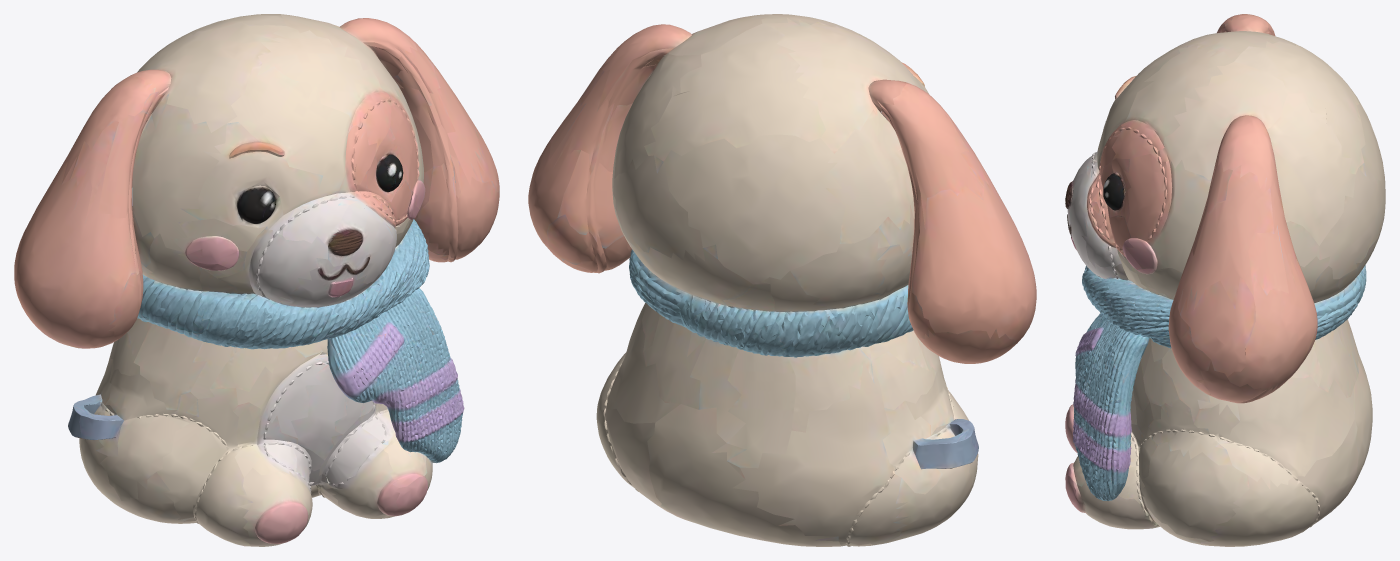
The model's file is scarfpuppy.gen.glb.
The picture shows the model from 3 angles, left to right: view 1: azimuth 30°, elevation 25°; view 2: azimuth 150°, elevation 25°; view 3: azimuth 270°, elevation 25°; orthographic projection. The views are drawn at different scales.
Parts seen in each view (by area): view 1: LOD0; view 2: LOD0; view 3: LOD0.
Boxes of the visible parts, <box> form: LOD0: <box>14,14,499,546</box>; LOD0: <box>528,14,1036,546</box>; LOD0: <box>1065,14,1385,546</box>.
Size of what is drawn, in the model's own units: 0.214 by 0.195 by 0.1292.
1 material, 1 textured.
